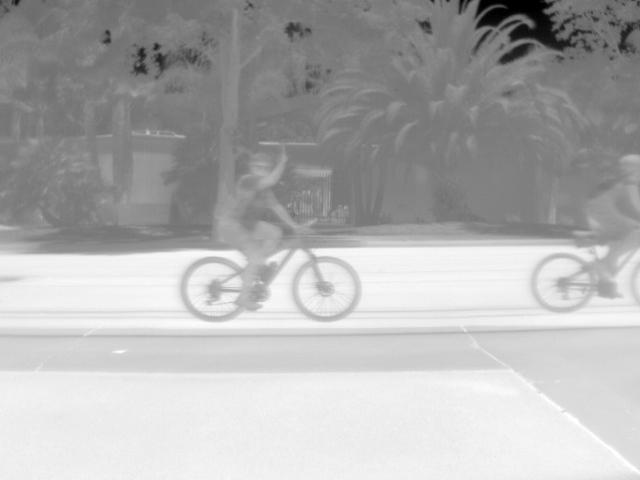person: (212, 138, 309, 312), (587, 154, 639, 299)
